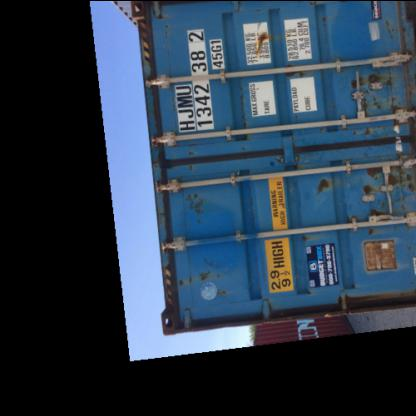Damage: (352, 160, 412, 236), (341, 70, 405, 115), (166, 266, 236, 301), (245, 25, 269, 67), (180, 185, 204, 220), (303, 170, 334, 196)
